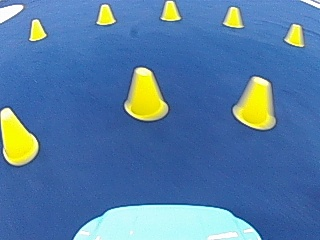cone: (123, 66, 167, 120), (0, 106, 39, 165), (233, 75, 275, 129), (222, 5, 243, 28), (284, 23, 304, 46), (95, 3, 115, 25), (160, 0, 180, 21), (28, 18, 46, 40)
